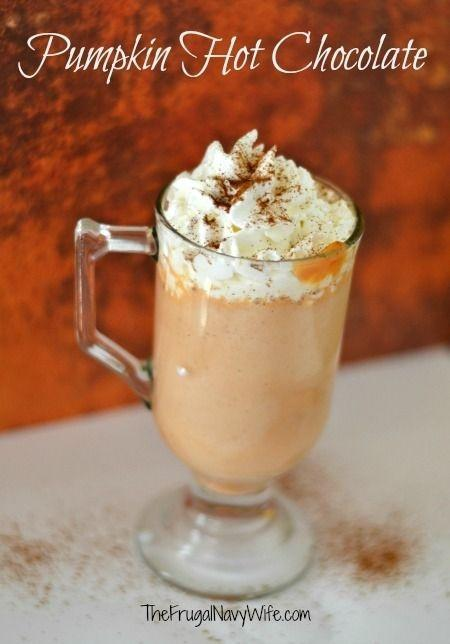glass-mug: (69, 157, 363, 599)
